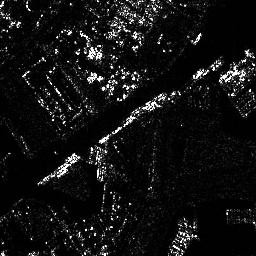ship: (125, 91, 166, 120), (191, 55, 225, 80)
